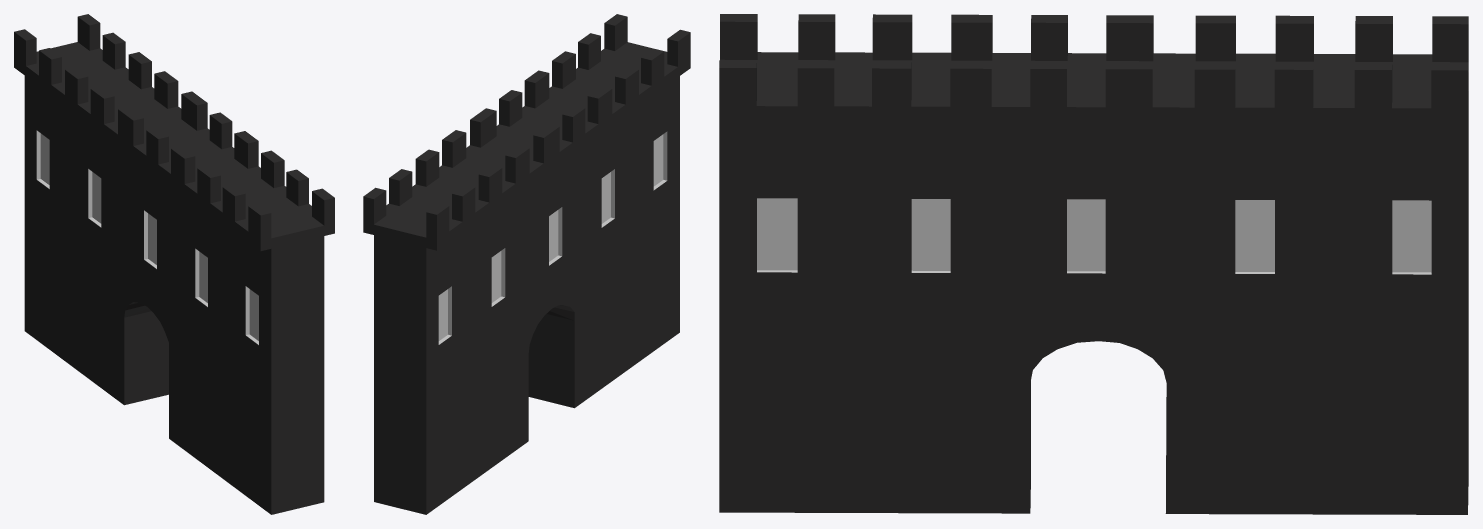
File: castle wall_around_door 1.fbx
3 renders of one model, left to right at view 1: azimuth 30°, elevation 25°; view 2: azimuth 150°, elevation 25°; view 3: azimuth 270°, elevation 25°, orthographic. The views are drawn at different scales.
Parts seen in each view (by area): view 1: castle_wall; view 2: castle_wall; view 3: castle_wall.
Part boxes in pixels (box(x1,y1,x2,y2)): castle_wall: box(14, 14, 334, 514); castle_wall: box(363, 14, 690, 514); castle_wall: box(719, 14, 1468, 514).
Bounding box in the file's own units: 494 × 1848 × 2776.
